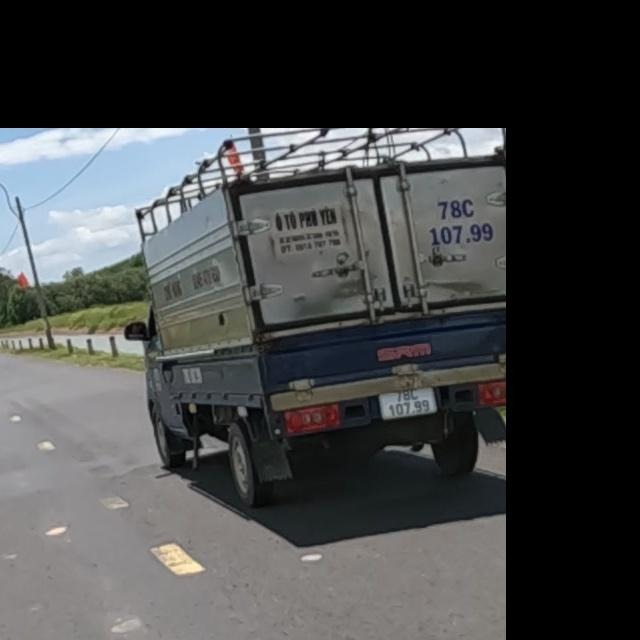license-plate: (379, 387, 439, 420)
